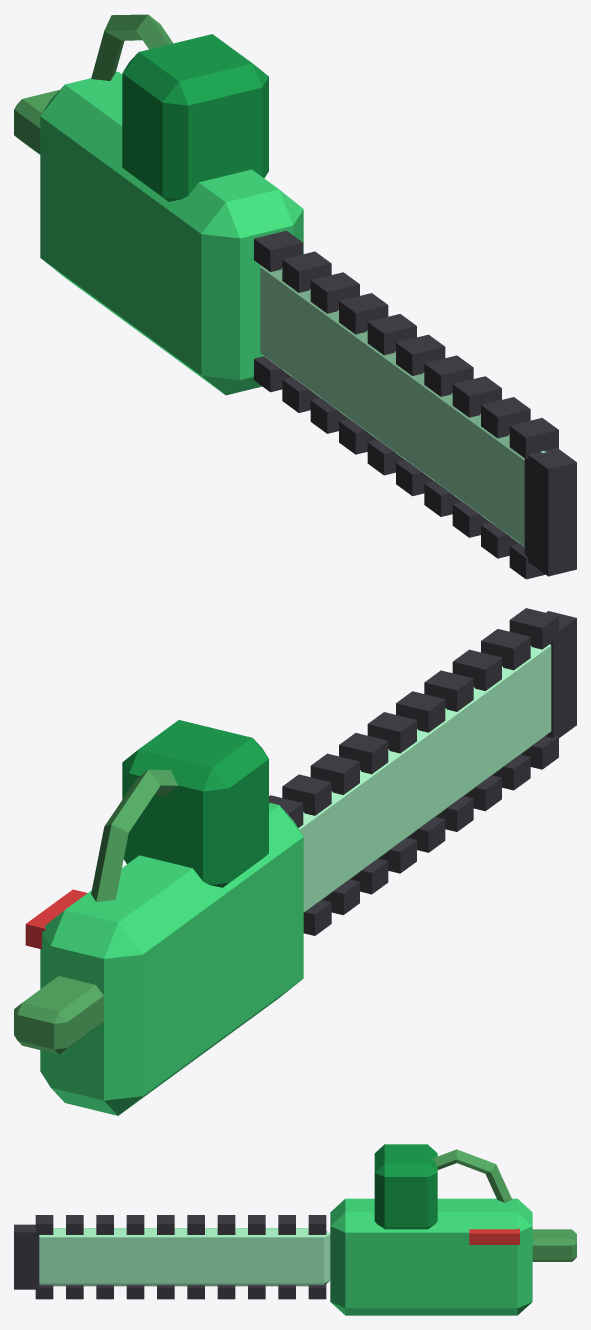
Rendered from EmeraldChainsaw.fbx.
3 renders of one model, top to bottom at view 1: azimuth 30°, elevation 25°; view 2: azimuth 150°, elevation 25°; view 3: azimuth 270°, elevation 25°, orthographic. The views are drawn at different scales.
Parts seen in each view (by area): view 1: EmeraldChainsaw; view 2: EmeraldChainsaw; view 3: EmeraldChainsaw.
Boxes of the visible parts, x1,y1,x2,y2 form: EmeraldChainsaw: (14, 14, 576, 579); EmeraldChainsaw: (14, 608, 576, 1115); EmeraldChainsaw: (14, 1144, 576, 1315).
Bounding box in the file's own units: 0.57 × 1.39 × 4.45.
Materials: 1 (1 with a texture image).
